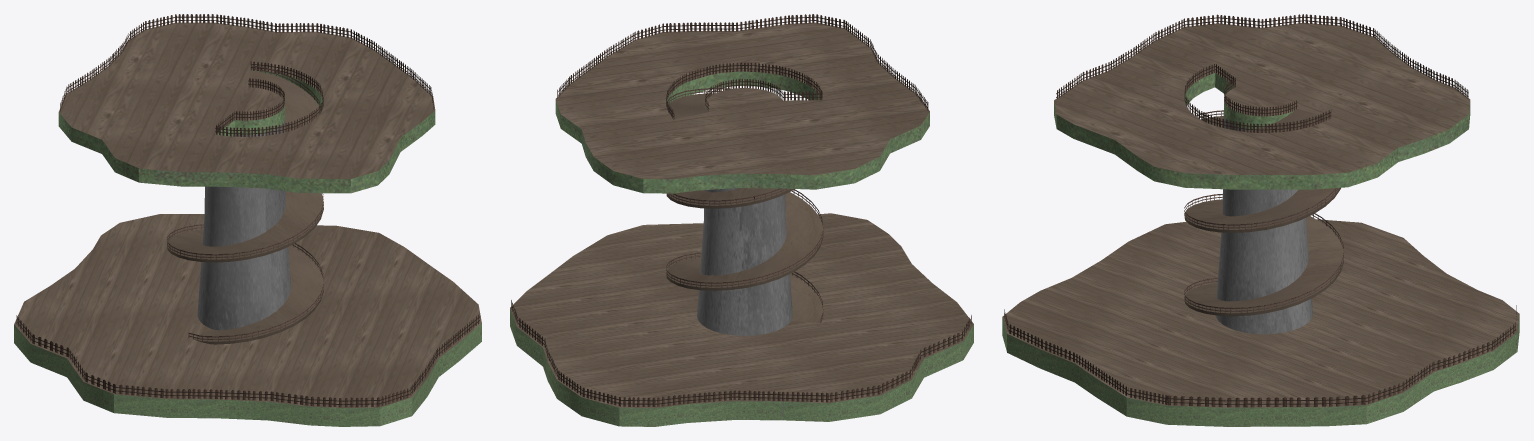
Rendered from end_mvp.gltf.
The picture shows the model from 3 angles, left to right: view 1: azimuth 30°, elevation 25°; view 2: azimuth 150°, elevation 25°; view 3: azimuth 270°, elevation 25°; orthographic projection.
Parts seen in each view (by area): view 1: lower_terrace, upper_terrace, shore, ramp, upper_fence, lower_fence, railing_ramp; view 2: lower_terrace, upper_terrace, shore, ramp, upper_fence, lower_fence, railing_ramp; view 3: lower_terrace, upper_terrace, shore, ramp, upper_fence, lower_fence, railing_ramp.
Part boxes in pixels (x1,y1,x2,y2): lower_terrace: (14,214,481,426); upper_terrace: (58,22,435,193); shore: (197,120,291,330); ramp: (167,70,323,344); upper_fence: (60,14,433,136); lower_fence: (16,314,480,407); railing_ramp: (167,65,323,341); lower_terrace: (510,213,973,426); upper_terrace: (555,22,929,193); shore: (697,188,792,335); ramp: (666,93,823,322); upper_fence: (557,14,928,118); lower_fence: (511,300,971,406); railing_ramp: (666,88,823,322); lower_terrace: (1002,219,1519,426); upper_terrace: (1054,22,1470,189); shore: (1216,114,1312,334); ramp: (1184,109,1343,316); upper_fence: (1056,14,1468,132); lower_fence: (1004,305,1516,407); railing_ramp: (1184,110,1343,313).
Bounding box in the file's own units: 84.84 × 50.88 × 98.16.
3 materials, 3 textured.
